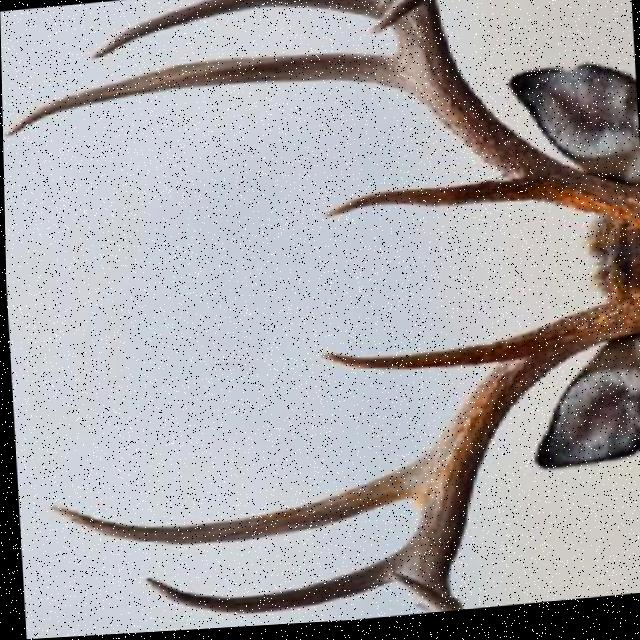L-F: (371, 0, 640, 232)
L-G1: (317, 185, 534, 224)
L-G2: (2, 56, 397, 138)
L-G3: (87, 0, 385, 62)
R-F: (379, 309, 640, 617)
R-G1: (316, 342, 519, 376)
R-G2: (41, 461, 424, 549)
R-G3: (140, 562, 385, 618)
